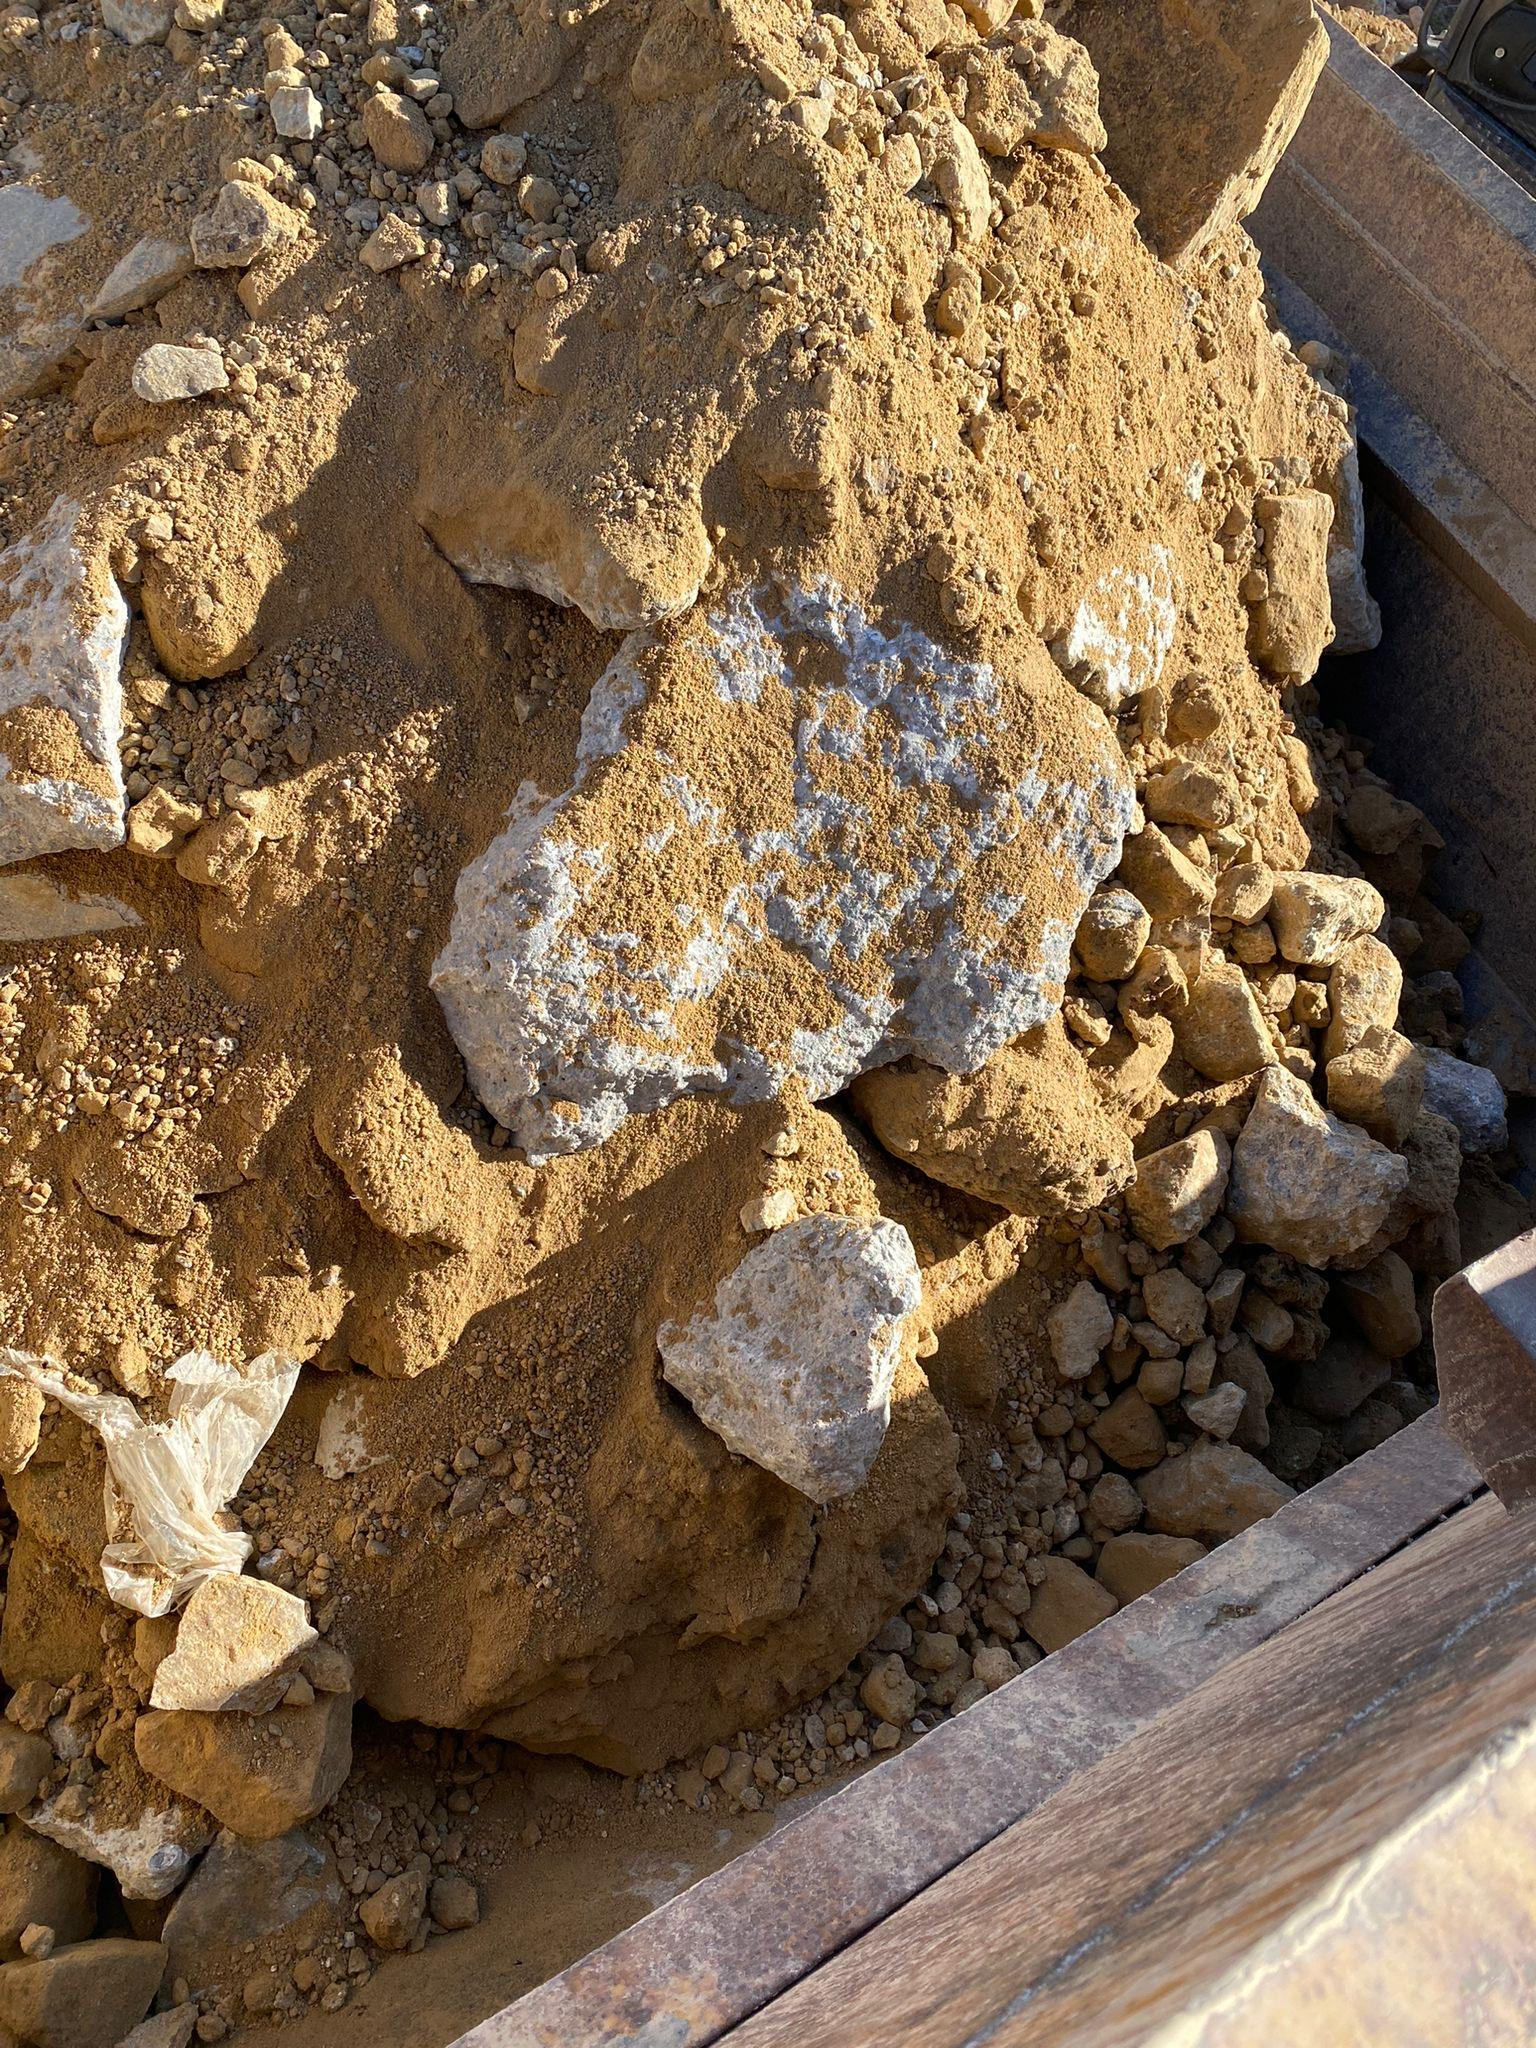dirt: (3, 1, 1529, 2042)
stone: (425, 562, 1143, 1167), (653, 1209, 924, 1505)
